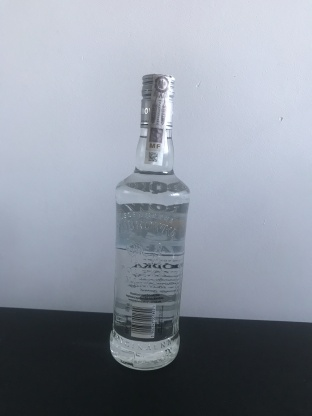nakretka: (138, 67, 177, 133)
